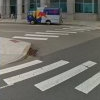crosswalk: (0, 59, 99, 94), (11, 27, 100, 40)
